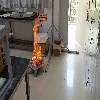fire: (32, 10, 43, 67)
